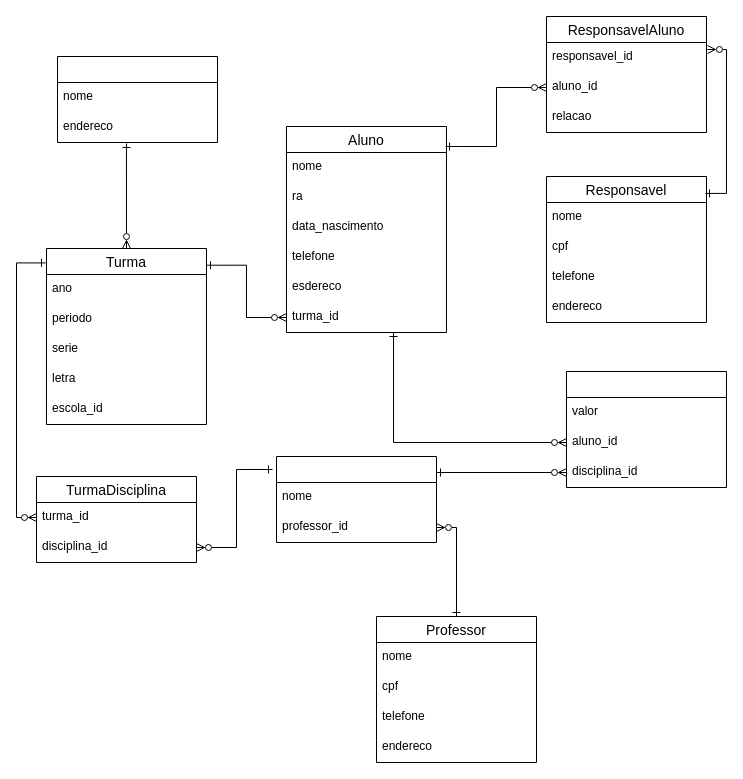
The diagram is 743 pixels wide and 779 high, and some of its shapes have lost their labels. The shapes that lost their labels are listed below. From the top down, each one's box as (x1, y1, x2, y2) in pixels, then its label:
(56, 56, 218, 142): Escola
(566, 370, 726, 488): Nota
(276, 456, 436, 542): Disciplina
